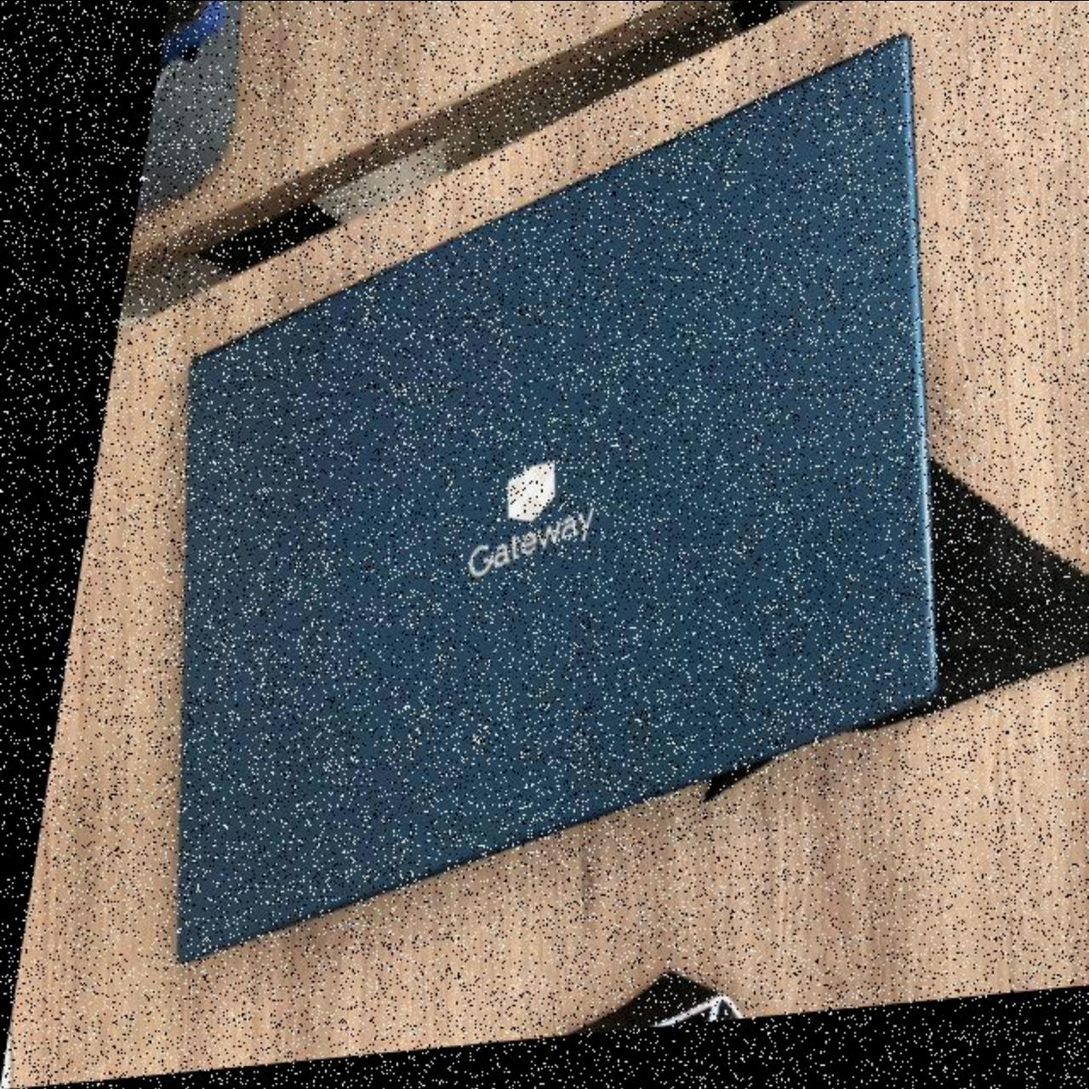laptop: (91, 39, 1012, 972)
